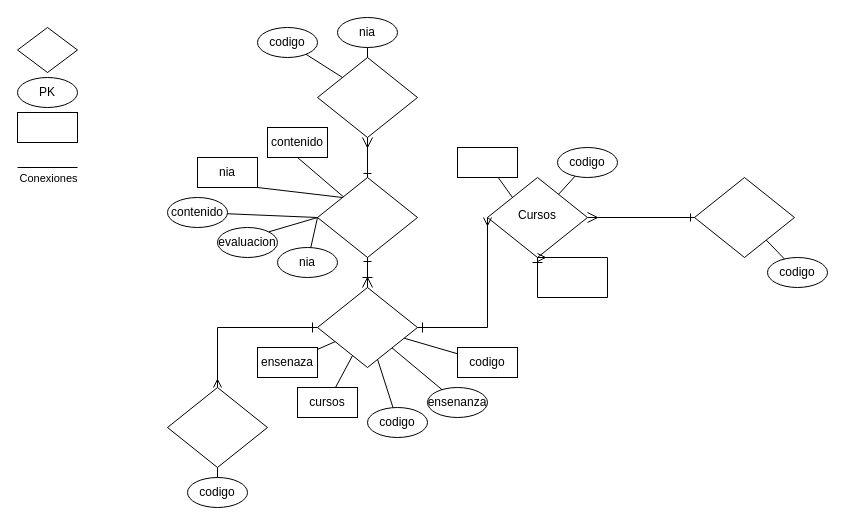
The diagram is 845 pixels wide and 525 high, and some of its shapes have lost their labels. Each missing label, with the box of its shape:
Alumnos: (316, 56, 418, 138)
Calificaciones: (316, 176, 418, 258)
FK: (16, 112, 78, 142)
Grupos: (694, 176, 794, 258)
Horas: (166, 386, 268, 468)
Modulos: (316, 286, 418, 368)
Padre: (456, 146, 518, 178)
Tablas: (16, 26, 78, 72)
